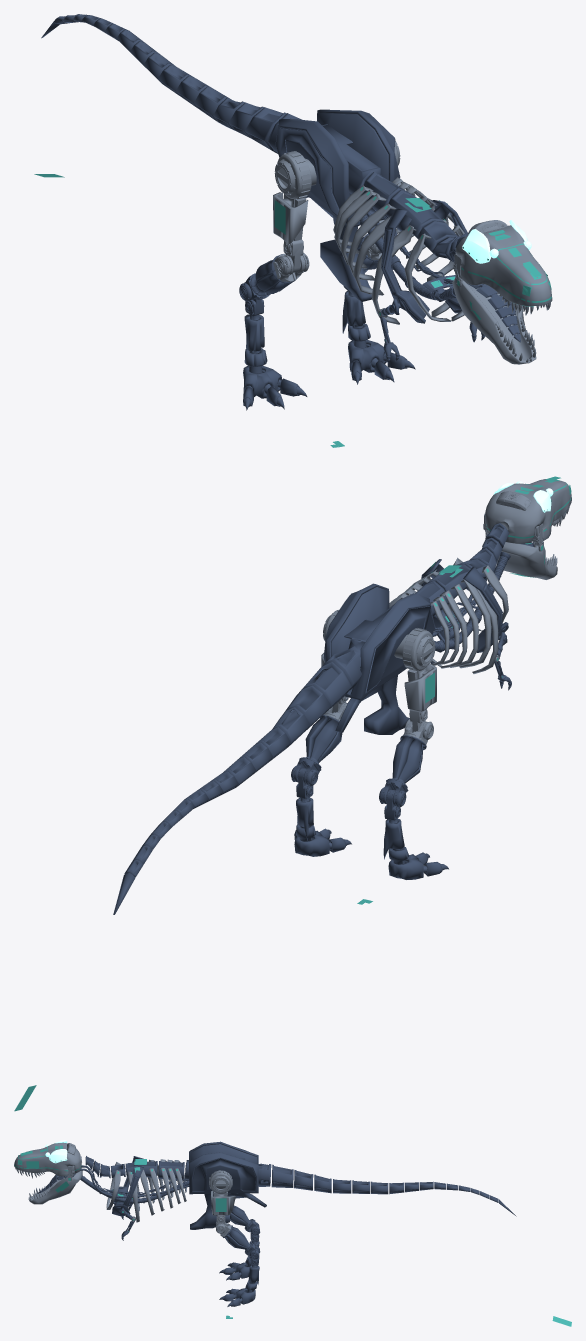
File: trex_hero.glb
3 views of the same model, one above another, from view 1: azimuth 30°, elevation 25°; view 2: azimuth 150°, elevation 25°; view 3: azimuth 270°, elevation 25° (orthographic). The views are drawn at different scales.
Visible parts, largest first — view 1: spine_outer, pelvis, ribcage, lower_legs.001, legs_upper, head, jaw_lower, arms_ribs, legs_middle, tongue, cable_01, eyes (+1 smaller); view 2: spine_outer, pelvis, ribcage, lower_legs.001, legs_upper, head, legs_middle, lower_legs, arms_ribs, jaw_lower; view 3: spine_outer, pelvis, ribcage, head, lower_legs.001, legs_upper, legs_middle, jaw_lower, arms_ribs, lower_legs, cable_01, cable_03.
Boxes of the visible parts, bbox=[...] form: spine_outer: bbox=[41, 14, 467, 262]; pelvis: bbox=[275, 109, 400, 301]; ribcage: bbox=[333, 177, 464, 324]; lower_legs.001: bbox=[243, 290, 415, 410]; legs_upper: bbox=[273, 141, 400, 281]; head: bbox=[455, 225, 552, 306]; jaw_lower: bbox=[452, 277, 536, 364]; arms_ribs: bbox=[381, 200, 467, 323]; legs_middle: bbox=[250, 233, 378, 296]; tongue: bbox=[467, 283, 520, 342]; cable_01: bbox=[360, 214, 455, 301]; eyes: bbox=[462, 220, 529, 263]; spine_outer: bbox=[113, 523, 509, 914]; pelvis: bbox=[323, 583, 435, 734]; ribcage: bbox=[389, 557, 508, 673]; lower_legs.001: bbox=[294, 797, 448, 879]; legs_upper: bbox=[321, 610, 436, 744]; head: bbox=[485, 479, 571, 543]; legs_middle: bbox=[302, 715, 426, 788]; lower_legs: bbox=[291, 757, 408, 820]; arms_ribs: bbox=[421, 559, 508, 652]; jaw_lower: bbox=[482, 533, 557, 579]; spine_outer: bbox=[85, 1156, 516, 1216]; pelvis: bbox=[189, 1141, 266, 1229]; ribcage: bbox=[106, 1159, 186, 1222]; head: bbox=[14, 1142, 81, 1176]; lower_legs.001: bbox=[219, 1241, 259, 1306]; legs_upper: bbox=[209, 1170, 235, 1237]; legs_middle: bbox=[223, 1205, 252, 1252]; jaw_lower: bbox=[29, 1170, 82, 1204]; arms_ribs: bbox=[112, 1156, 143, 1216]; lower_legs: bbox=[245, 1219, 260, 1265]; cable_01: bbox=[80, 1175, 189, 1203]; cable_03: bbox=[81, 1165, 188, 1195].
Size of the model in its own units: 2.21 by 4.29 by 12.66.
